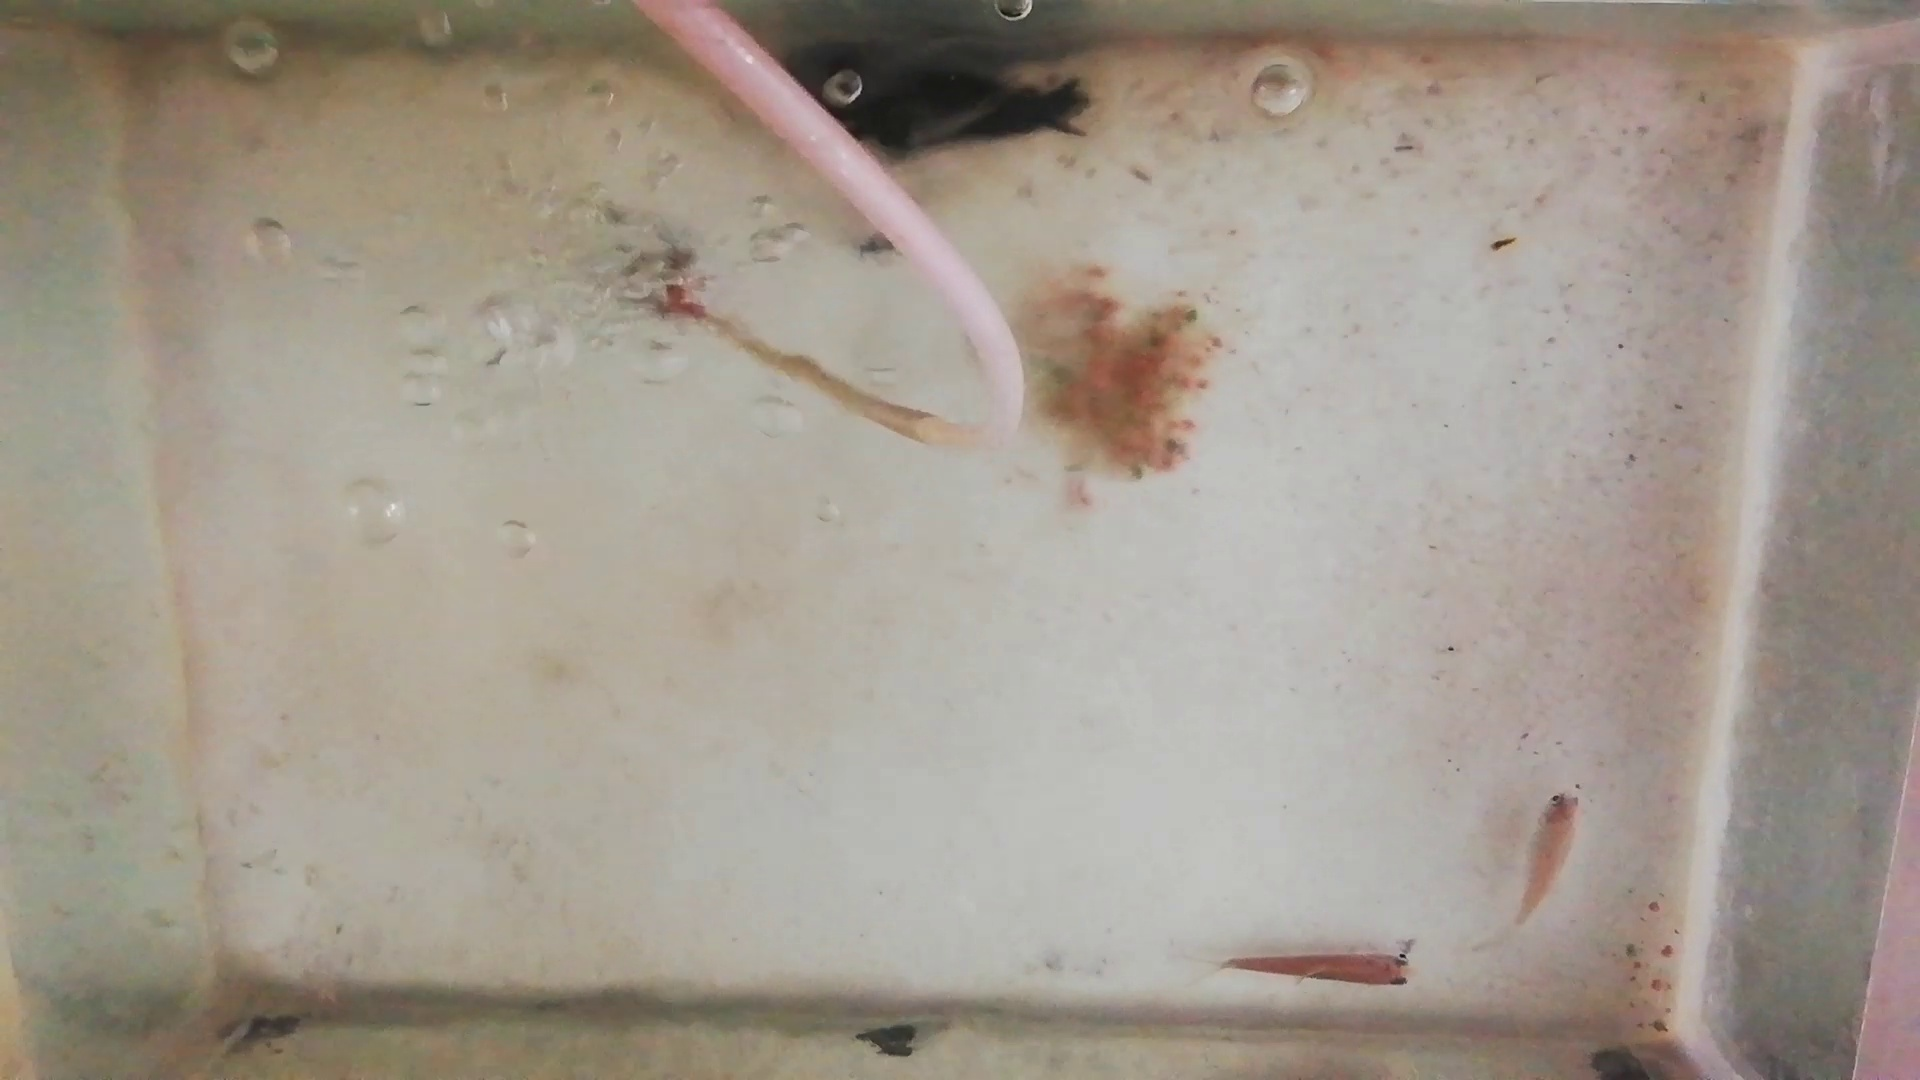fish: (1515, 789, 1582, 930), (1228, 951, 1419, 989)
